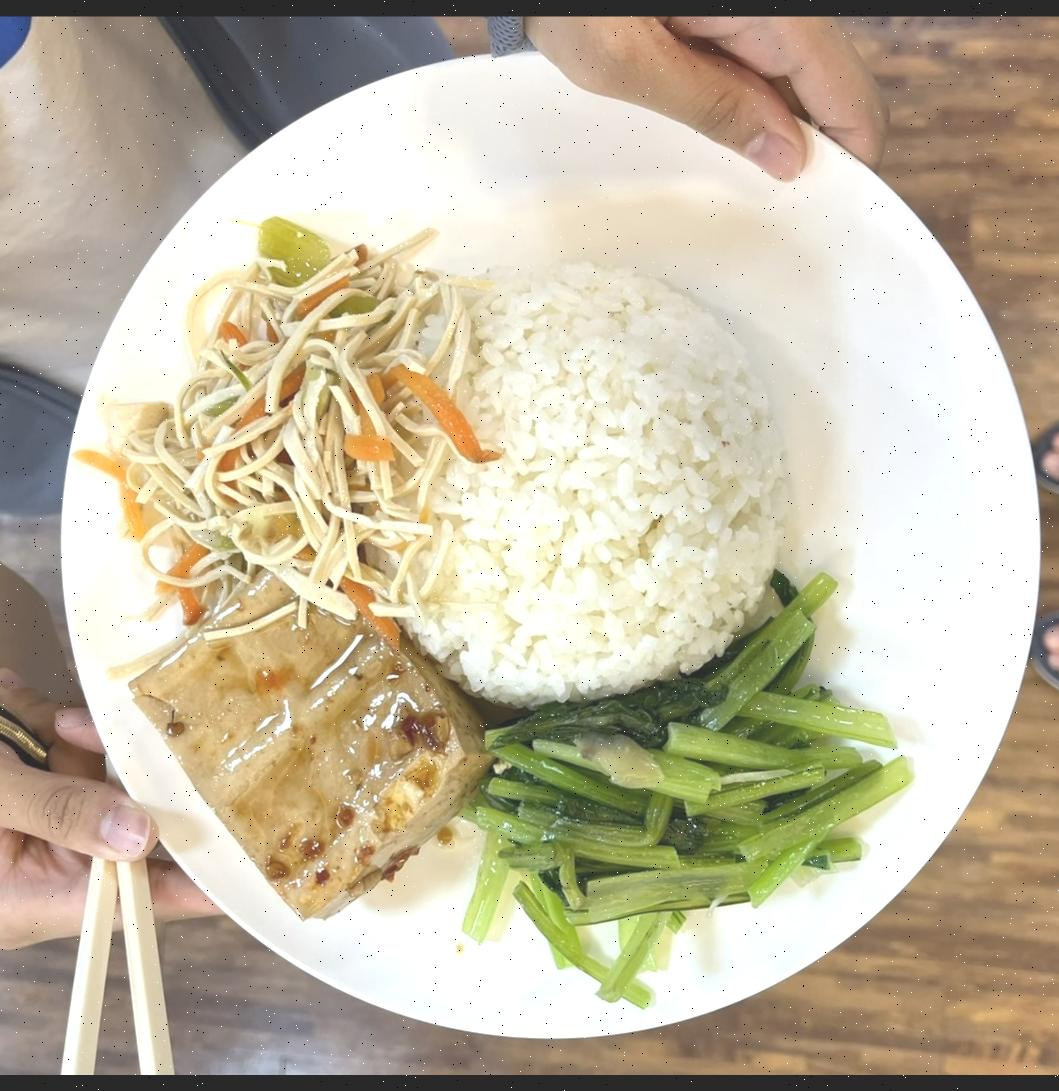plate: (17, 16, 1029, 1057)
side dish: (92, 222, 460, 614), (467, 644, 877, 967), (128, 562, 480, 914)
white rice: (382, 250, 795, 714)
